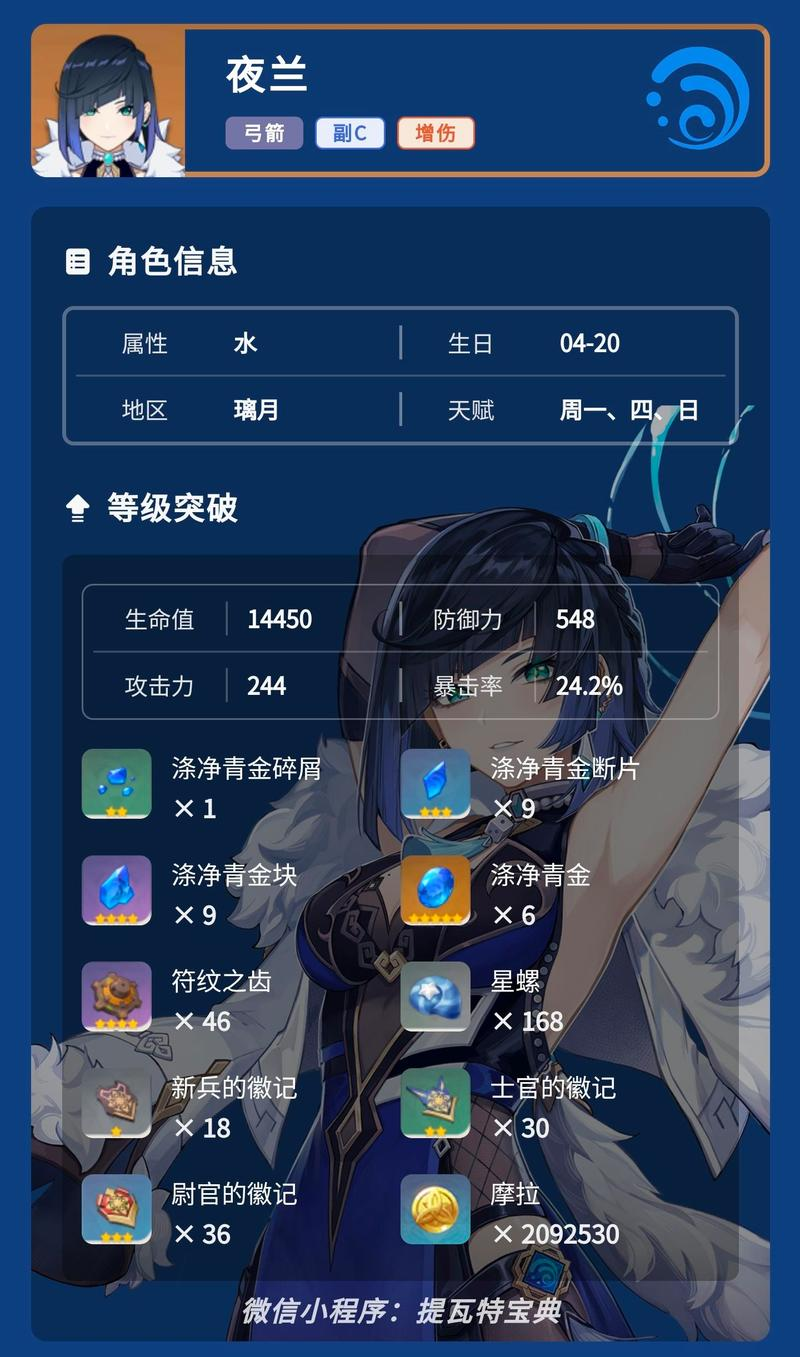夜兰: (239, 487, 769, 1334), (37, 38, 187, 181)
